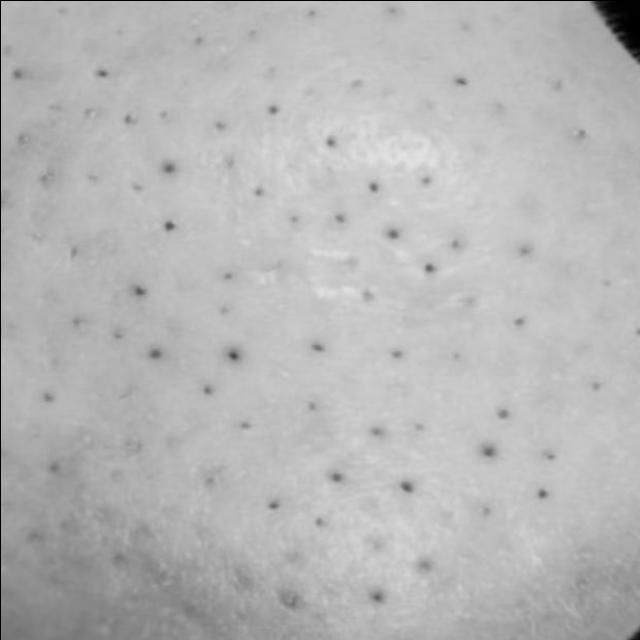blackhead: (34, 39, 591, 624)
